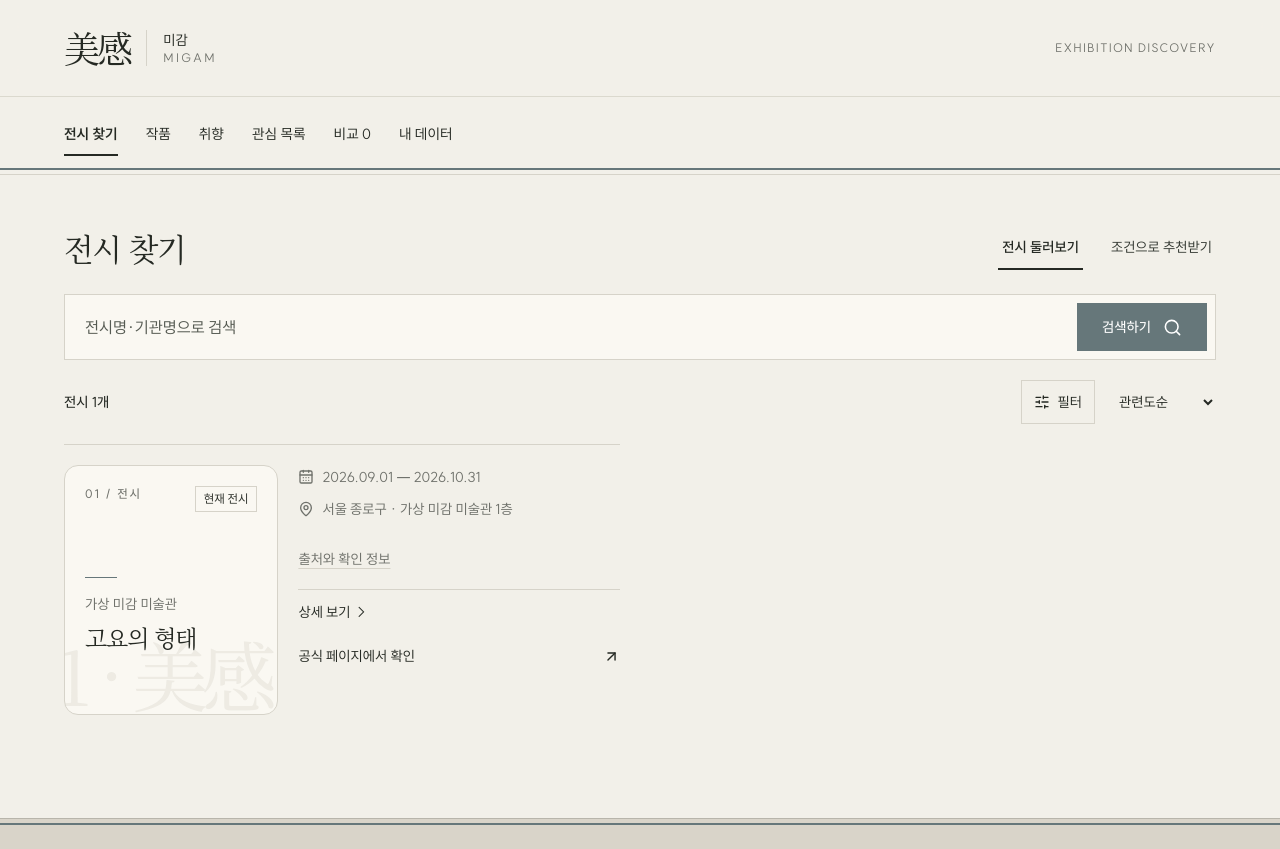
Test case: discovery user flows › preserves input on failure and retries without relaxing it
Expected: the heading "고요의 형태" is shown, [85,620,196,654]
Type "보존할 조건" into the search field. click: (575,327)
box: [85,303,1065,351]
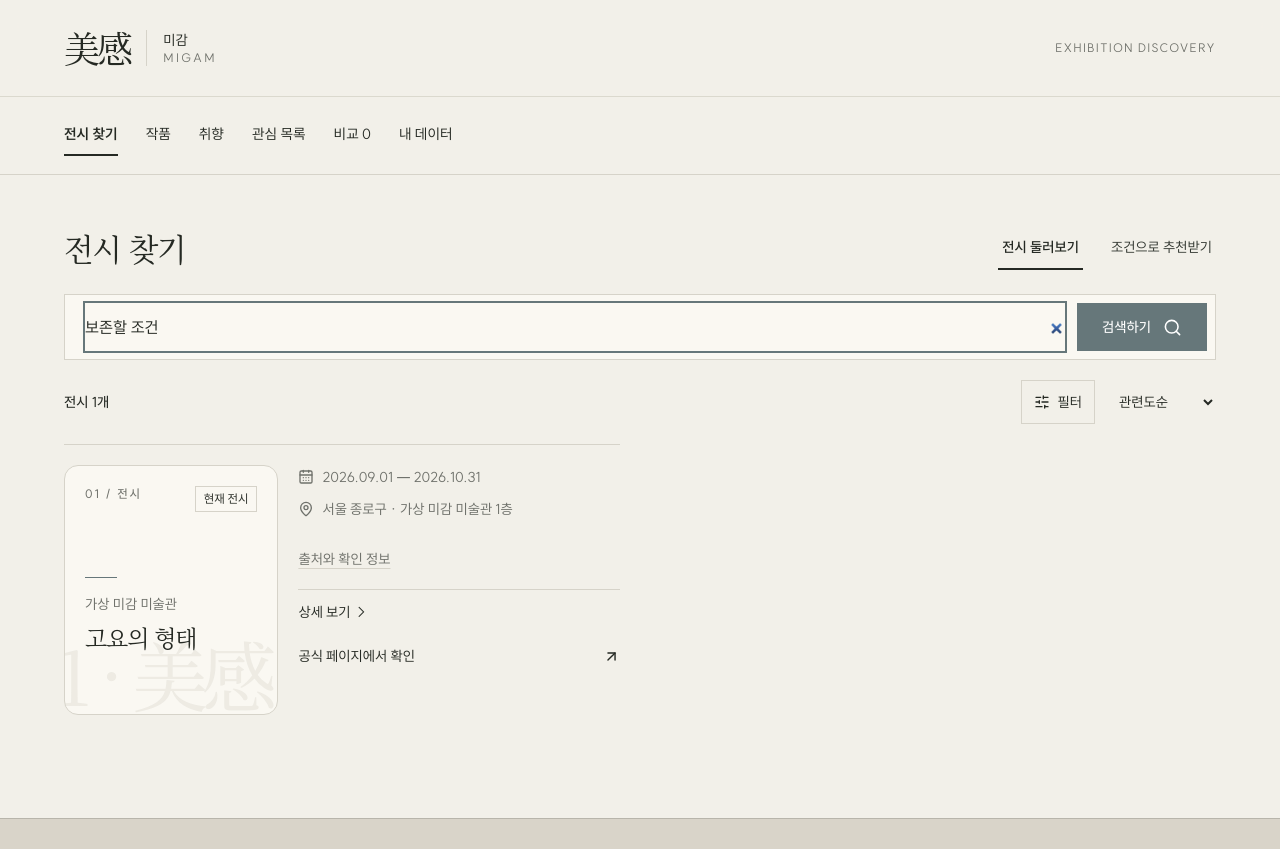
Click the button "검색하기". click: (1142,327)
box: [1077,303,1207,351]
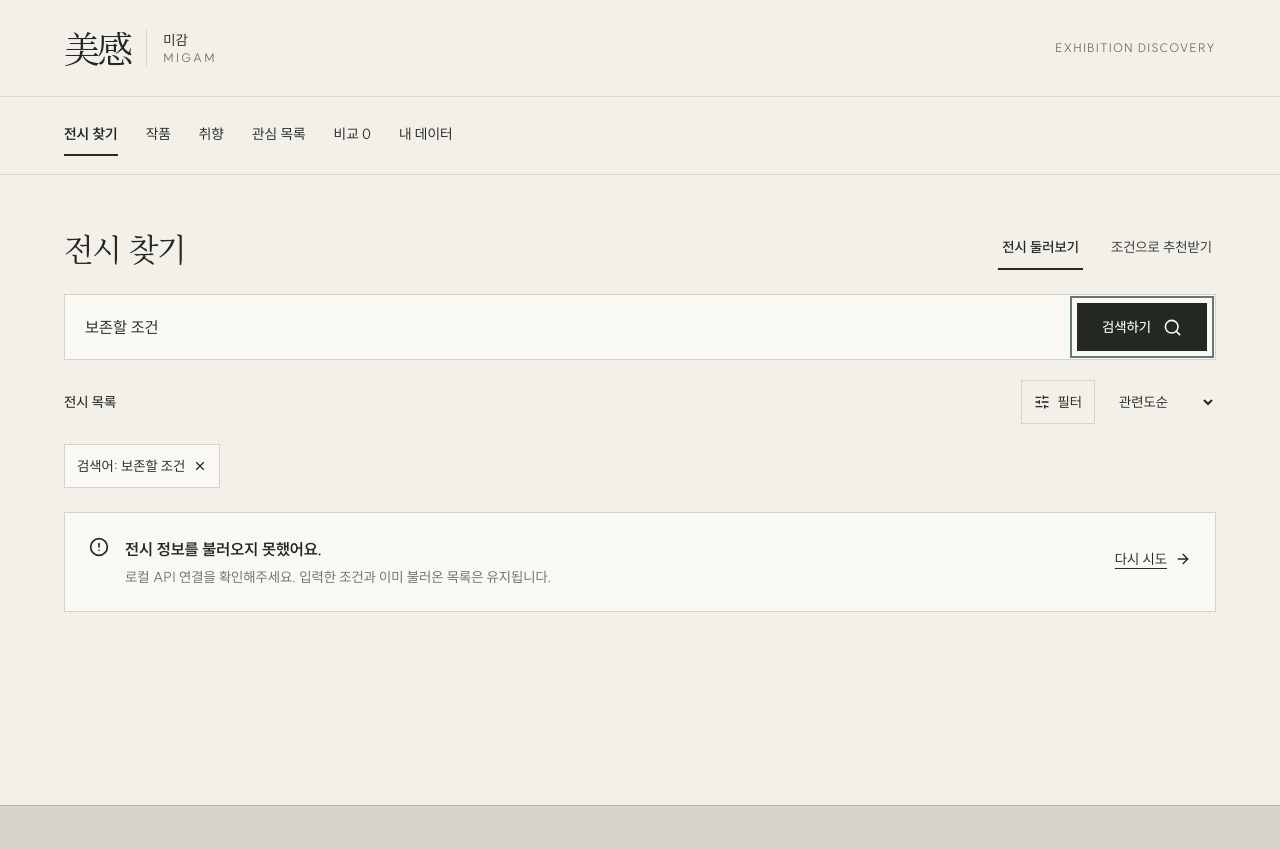
Now the message "전시 정보를 불러오지 못했어요. 로컬 API 연결을 확인해주세요. 입력한 조건과 이미 불러온 목록은 유지됩니다. 다시 시도" is shown, box [64,512,1216,612]
Click the button "다시 시도". click: (1153,559)
box: [1115,537,1191,581]
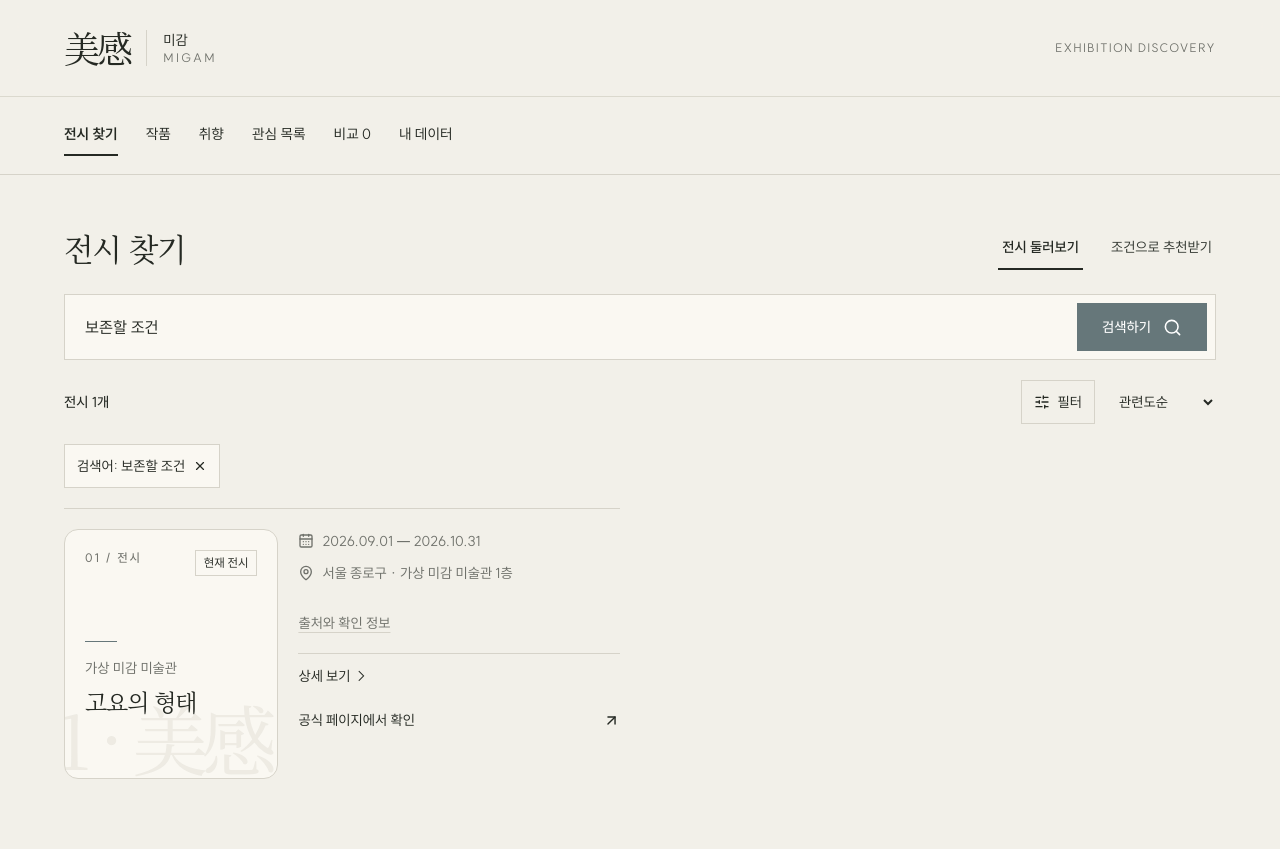
Now the heading "고요의 형태" is shown, box [85,684,196,718]
